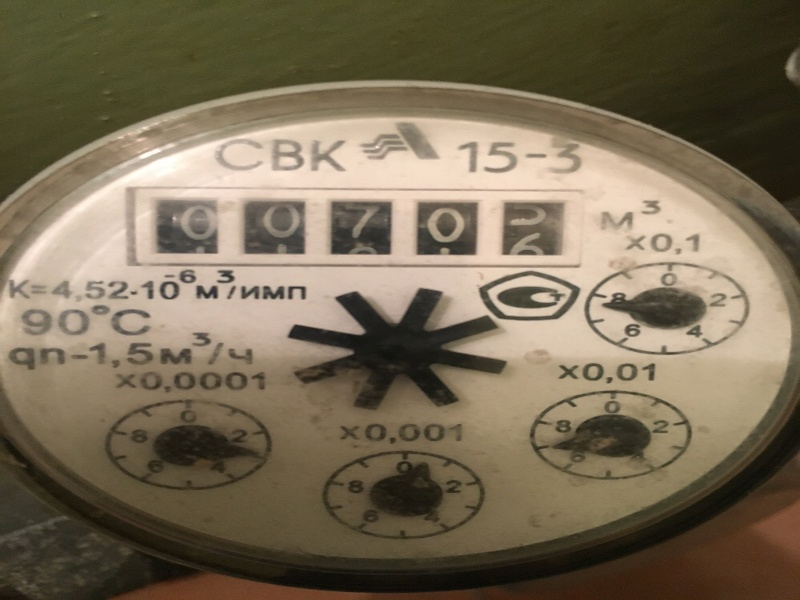meter: (133, 189, 576, 261)
